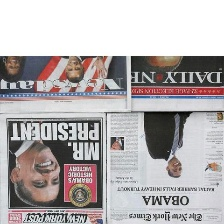news_paper: (105, 110, 224, 223), (0, 109, 107, 224), (0, 54, 131, 114), (127, 53, 224, 111)
